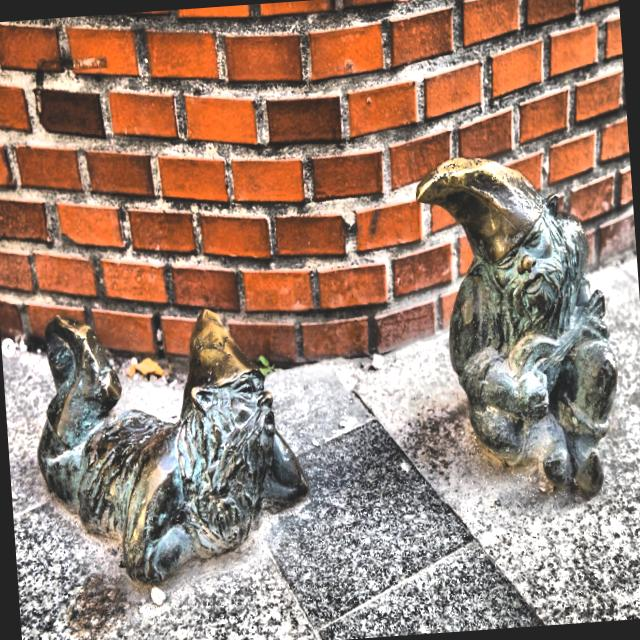Grajek_i_Meloman: (37, 158, 618, 588)
